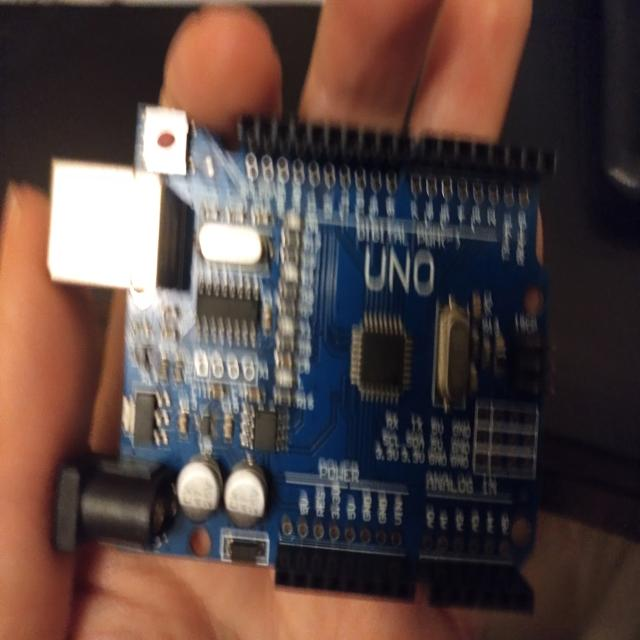arduino: (52, 105, 550, 619)
